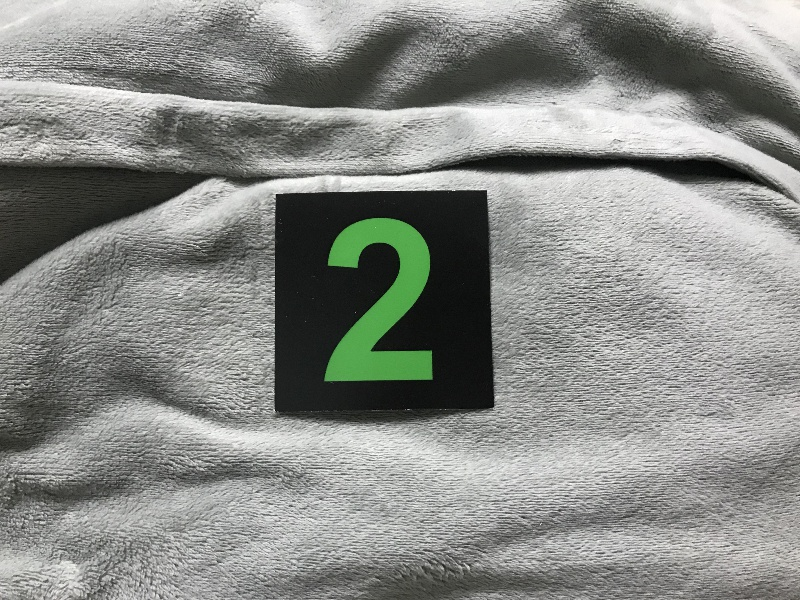Two-7: (278, 195, 487, 404)
